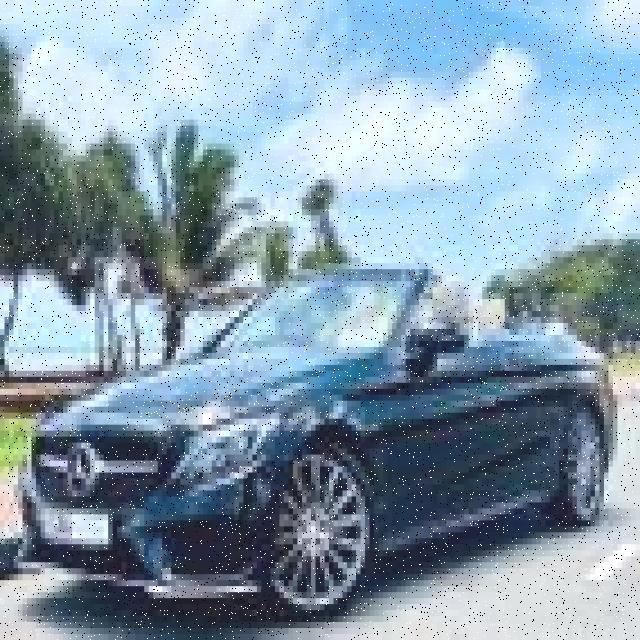car: (26, 251, 621, 589)
